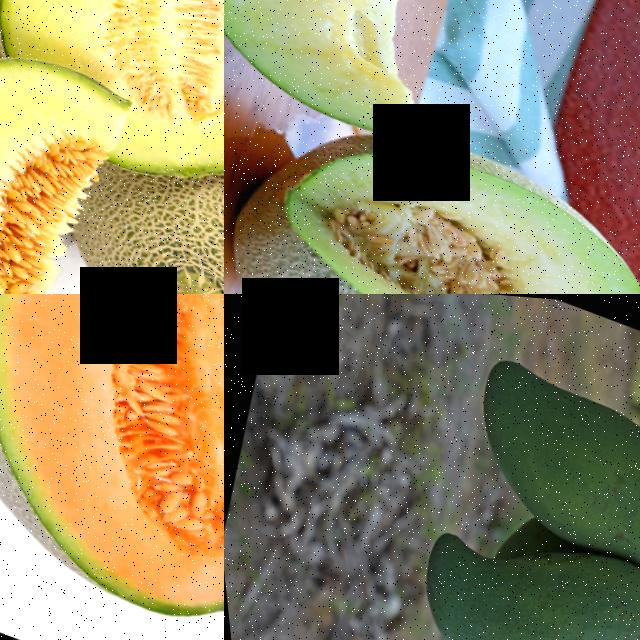mango: (440, 339, 640, 579), (389, 492, 640, 640)
melon: (224, 70, 640, 294), (0, 294, 224, 640), (0, 5, 146, 294), (224, 0, 496, 153), (0, 0, 224, 160), (39, 128, 224, 294)
